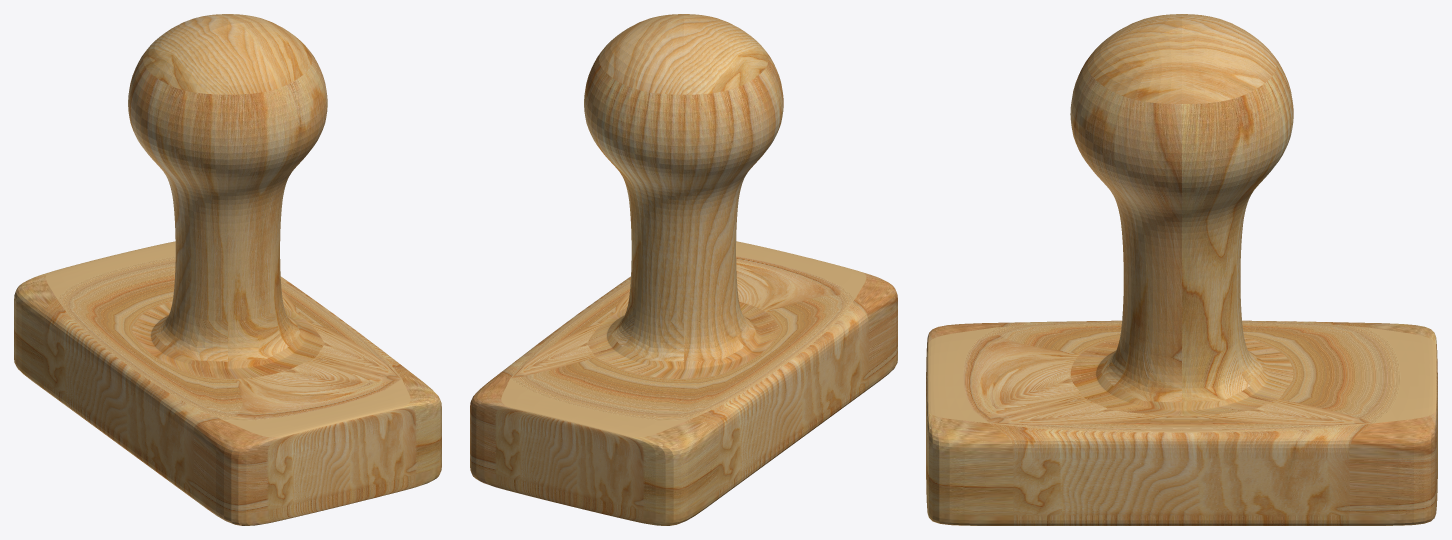
The model's file is RedStamp2.fbx.
The picture shows the model from 3 angles, left to right: view 1: azimuth 30°, elevation 25°; view 2: azimuth 150°, elevation 25°; view 3: azimuth 270°, elevation 25°; orthographic projection. The views are drawn at different scales.
Parts seen in each view (by area): view 1: stamp2; view 2: stamp2; view 3: stamp2.
Boxes of the visible parts, x1,y1,x2,y2 form: stamp2: (14, 14, 441, 525); stamp2: (470, 14, 897, 525); stamp2: (926, 14, 1437, 525).
Size of the model in its own units: 155 by 269 by 281.
Materials: 1 (1 with a texture image).
